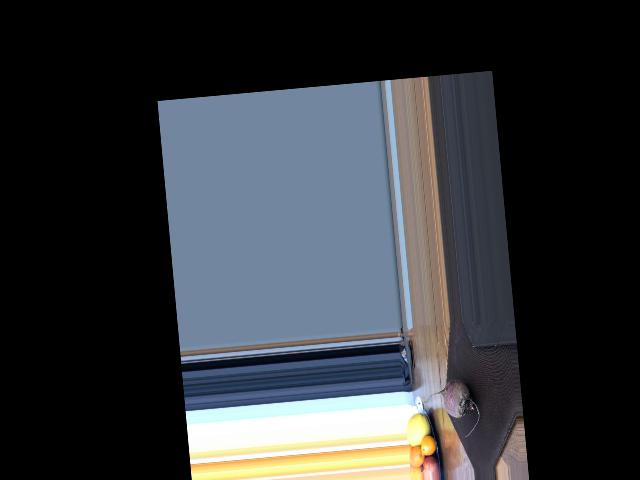beet: (425, 377, 481, 440)
